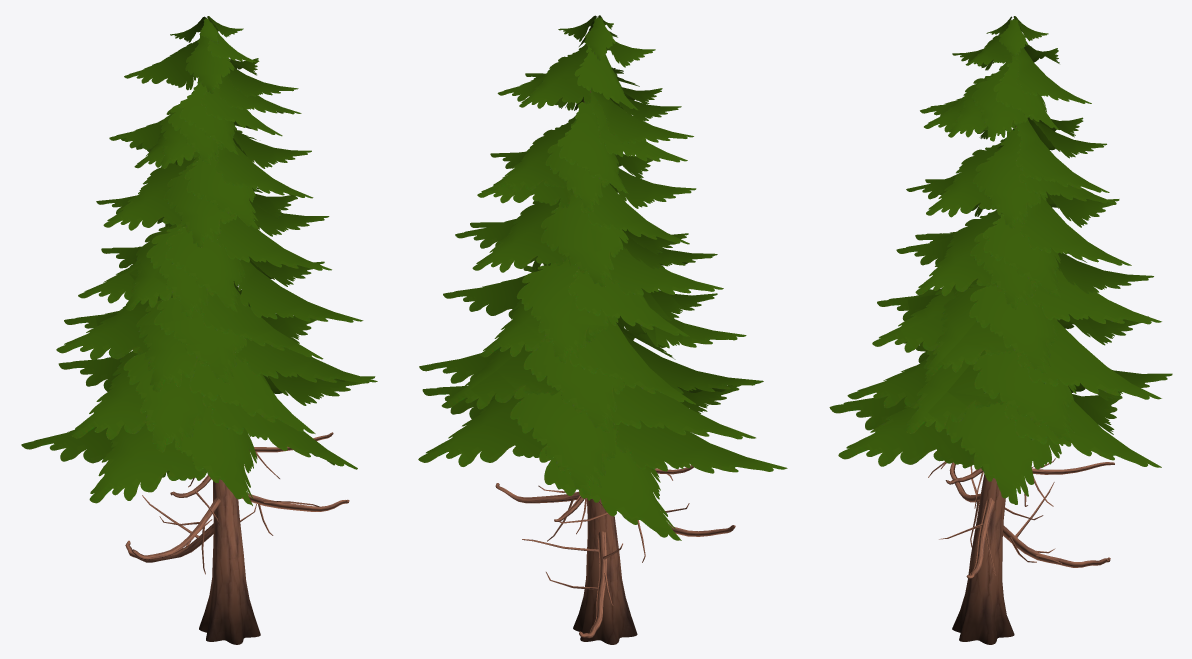
The model's file is Pine_4.glb.
The picture shows the model from 3 angles, left to right: view 1: azimuth 30°, elevation 25°; view 2: azimuth 150°, elevation 25°; view 3: azimuth 270°, elevation 25°; orthographic projection. The views are drawn at different scales.
Visible parts, largest first — view 1: Pine_4; view 2: Pine_4; view 3: Pine_4.
Part boxes in pixels (x1,y1,x2,y2): Pine_4: (21,16,377,644); Pine_4: (418,15,787,644); Pine_4: (829,16,1172,644).
Size of the model in its own units: 5.8 by 10.24 by 5.37.
Materials: 2 (2 with a texture image).
